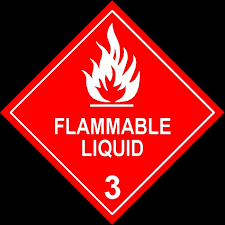FlammableLiquid: (11, 10, 217, 217)
